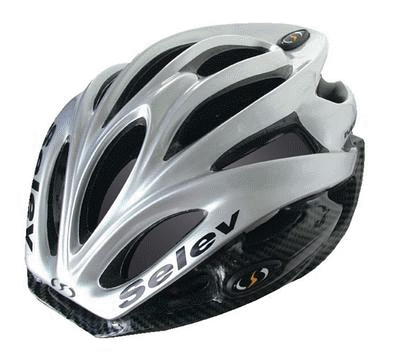helmet: (60, 52, 344, 284)
